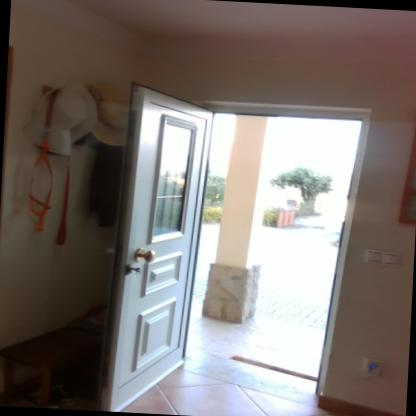open: (127, 85, 385, 415)
